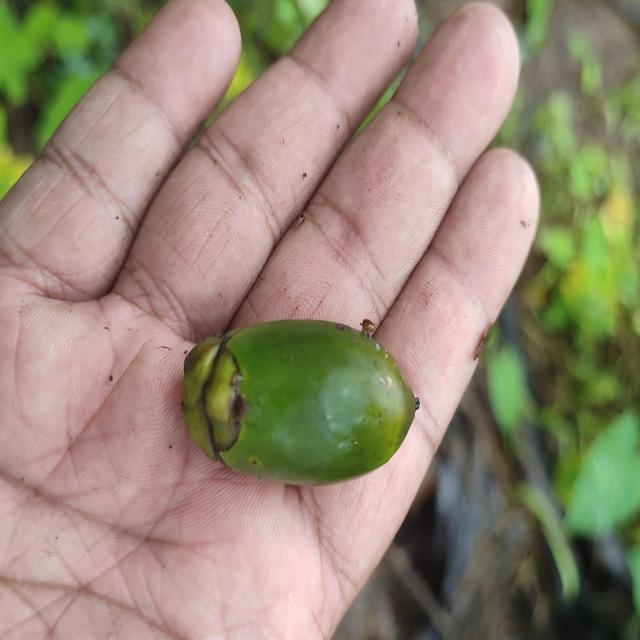damaged: (178, 318, 421, 490)
